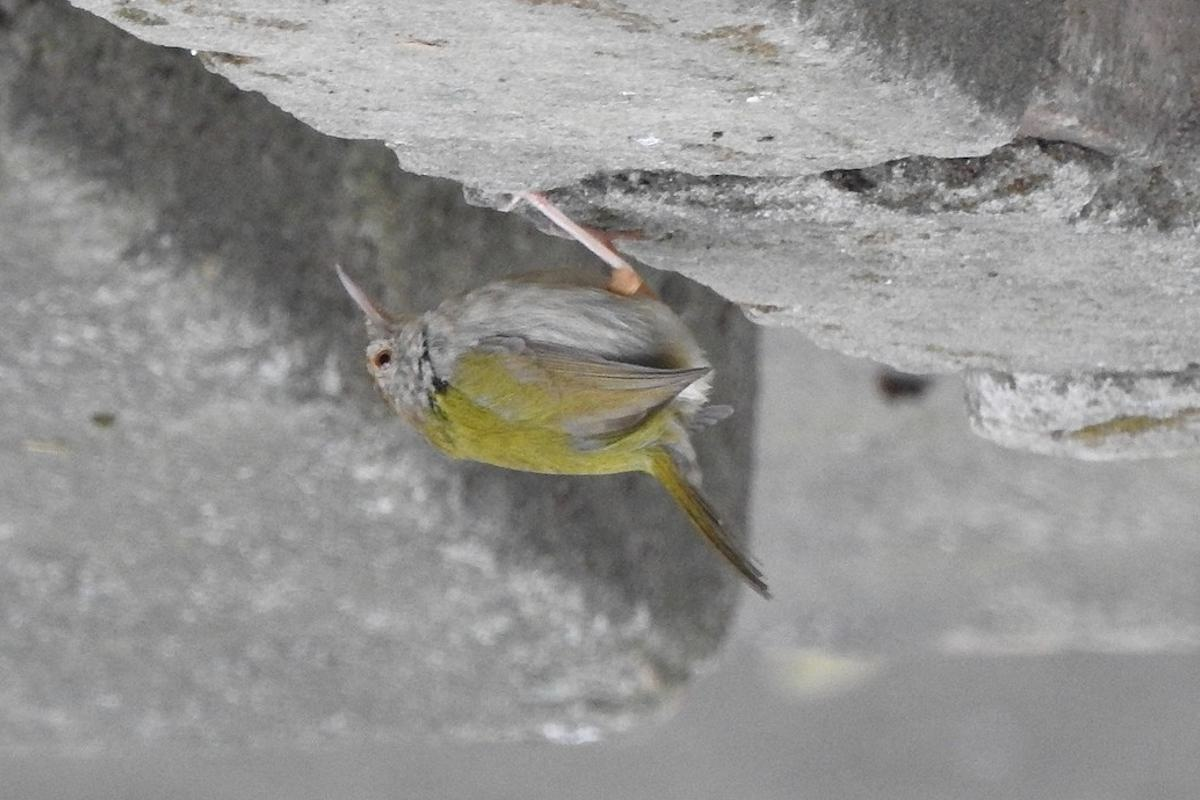tailorbird: (331, 207, 774, 581)
